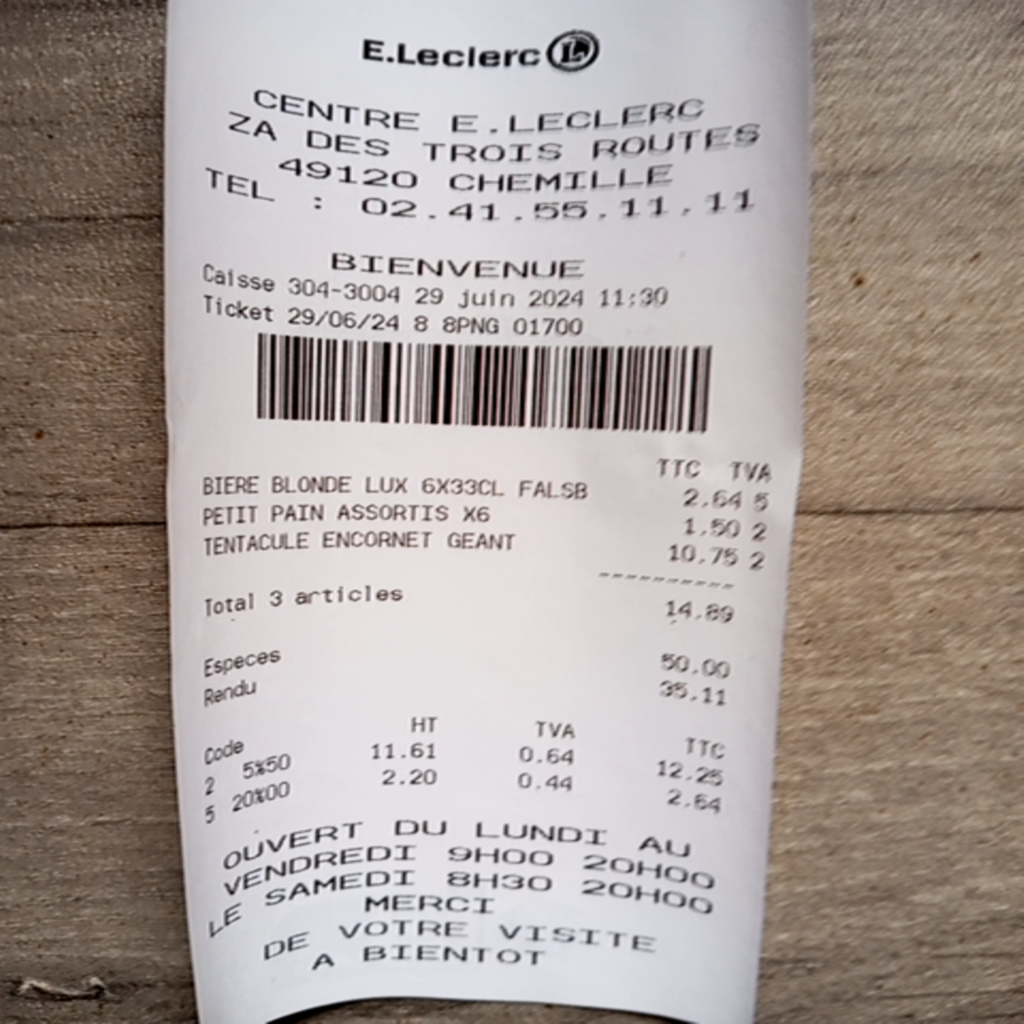recipt: (166, 0, 812, 1024)
